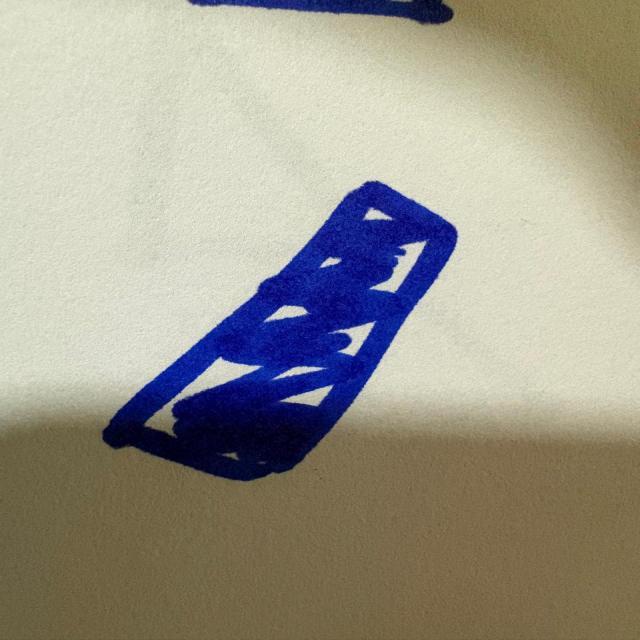Rectangle: (93, 156, 496, 497)
